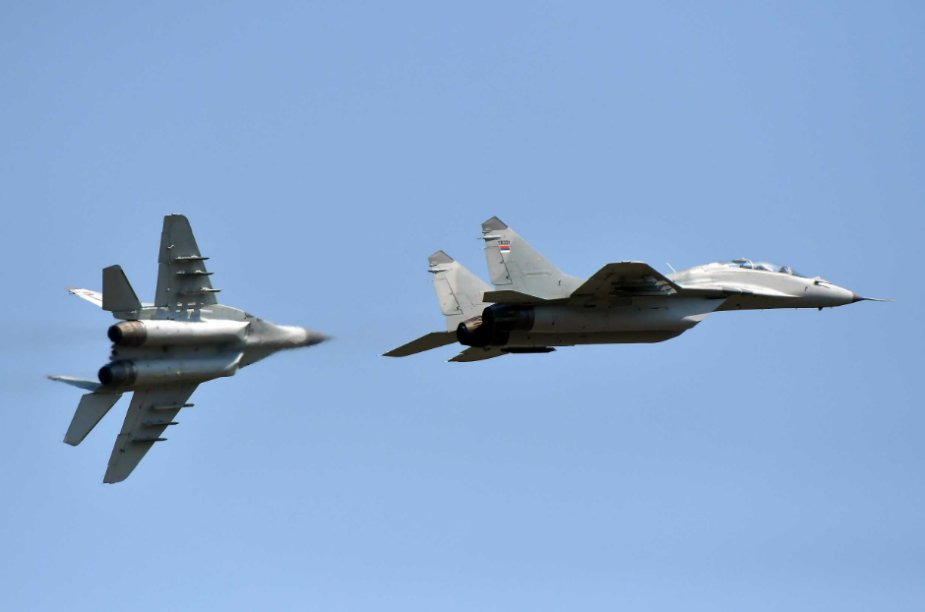Mig-29: (402, 173, 876, 413), (41, 198, 340, 482)
